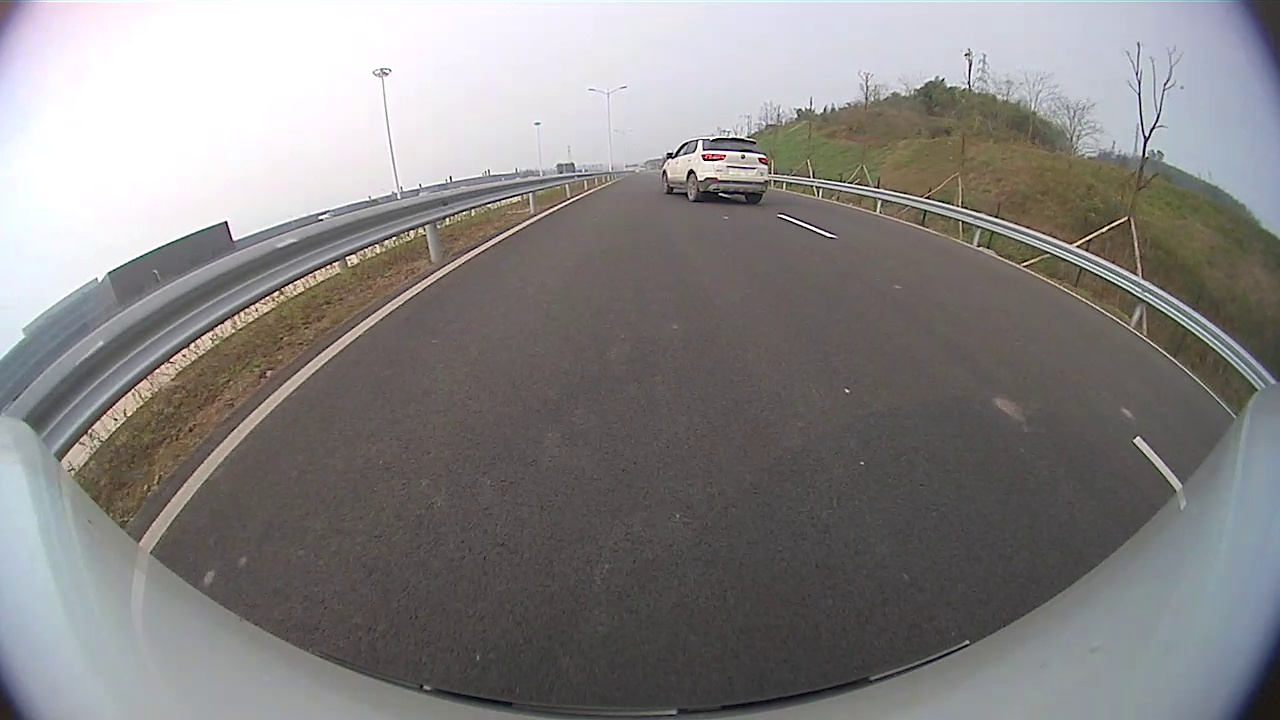car: (660, 135, 770, 205)
front: (660, 172, 674, 197)
rear: (686, 171, 704, 204)
